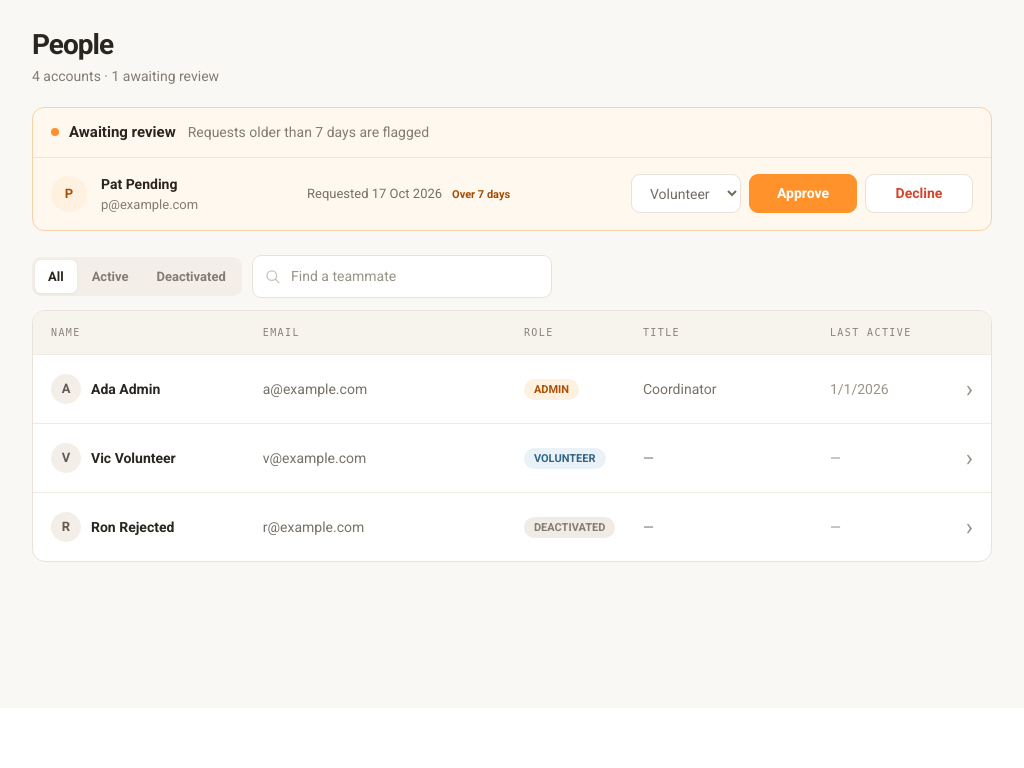
it: filters Active accounts
Click the button "Active": [110, 277] box [79, 260, 142, 293]
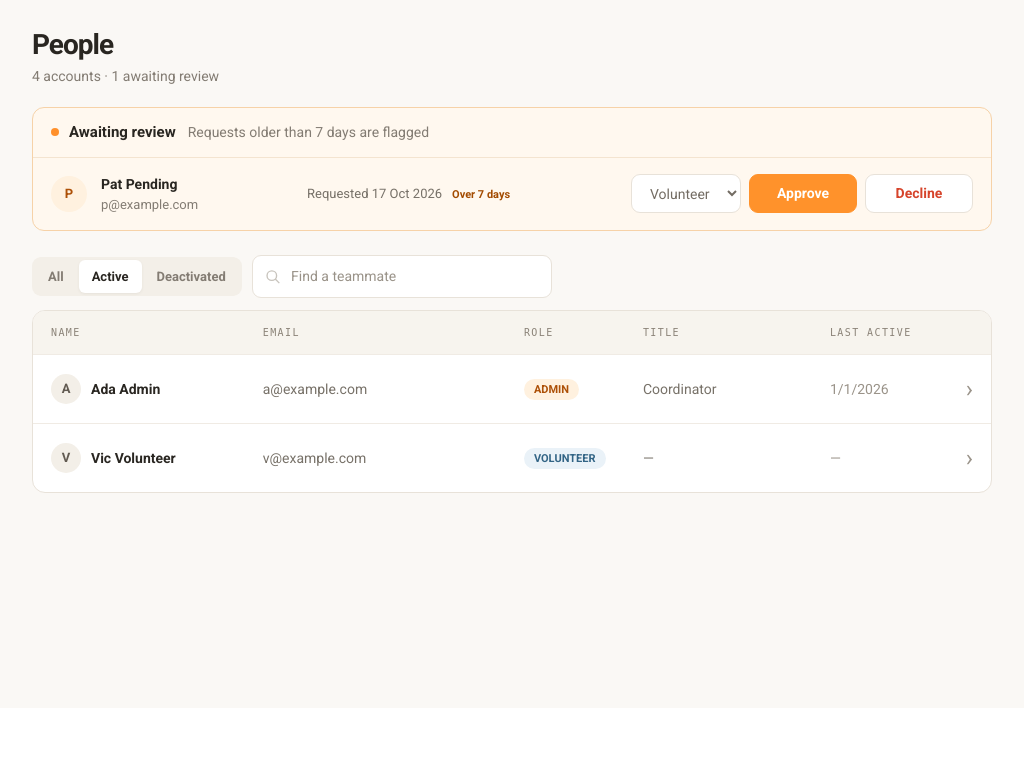
Expected: the number of buttons with class "card-wrapper" is 2, [33, 354, 991, 423]; [33, 423, 991, 492]
